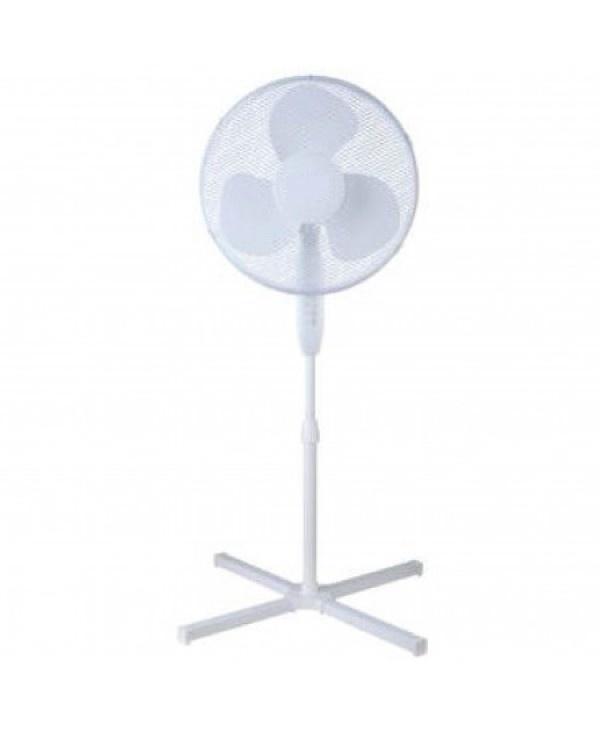fan: (145, 65, 472, 666)
